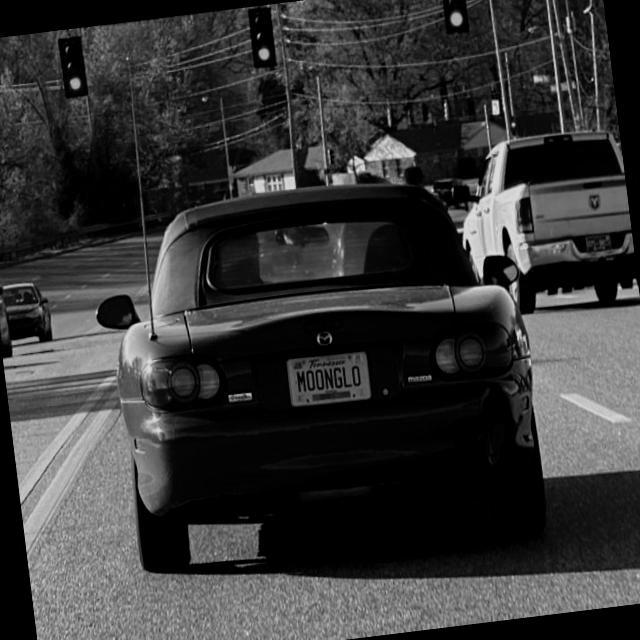LicensePlate: (286, 350, 371, 408)
